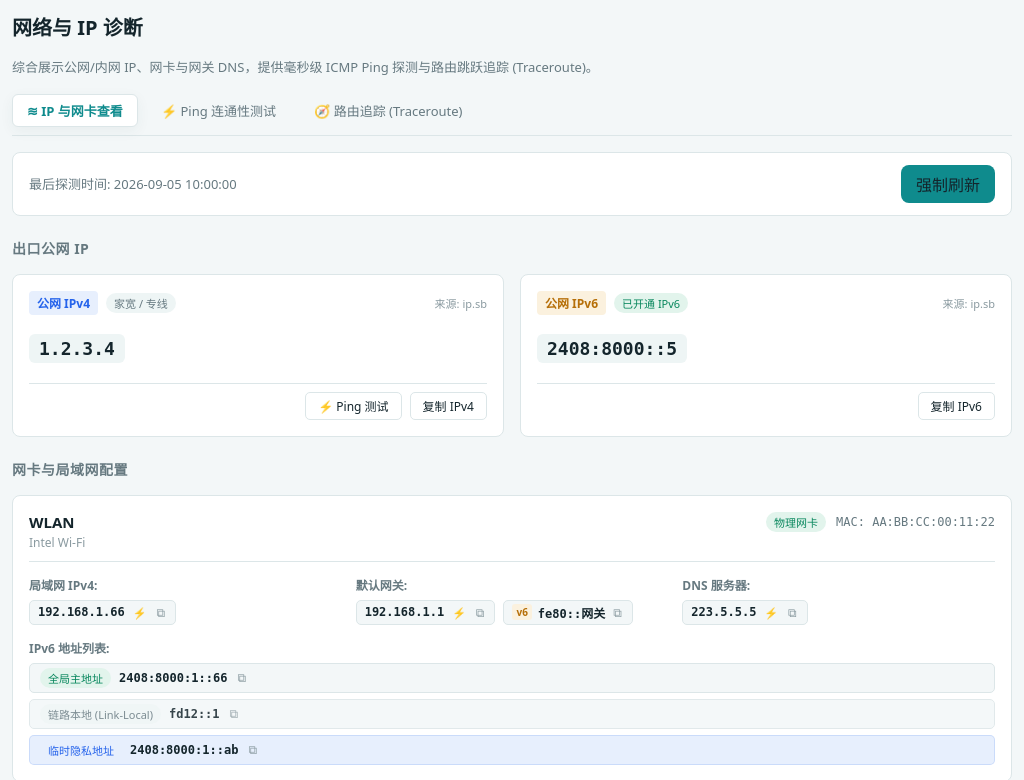
Test: PublicIpView Traceroute Tab › 追踪失败进错误框且不落结果卡
Click the button with class "tab-item" showing "🧭 路由追踪 (Traceroute)" at point(388, 110), box top-left (299, 94), bottom-right (478, 127)
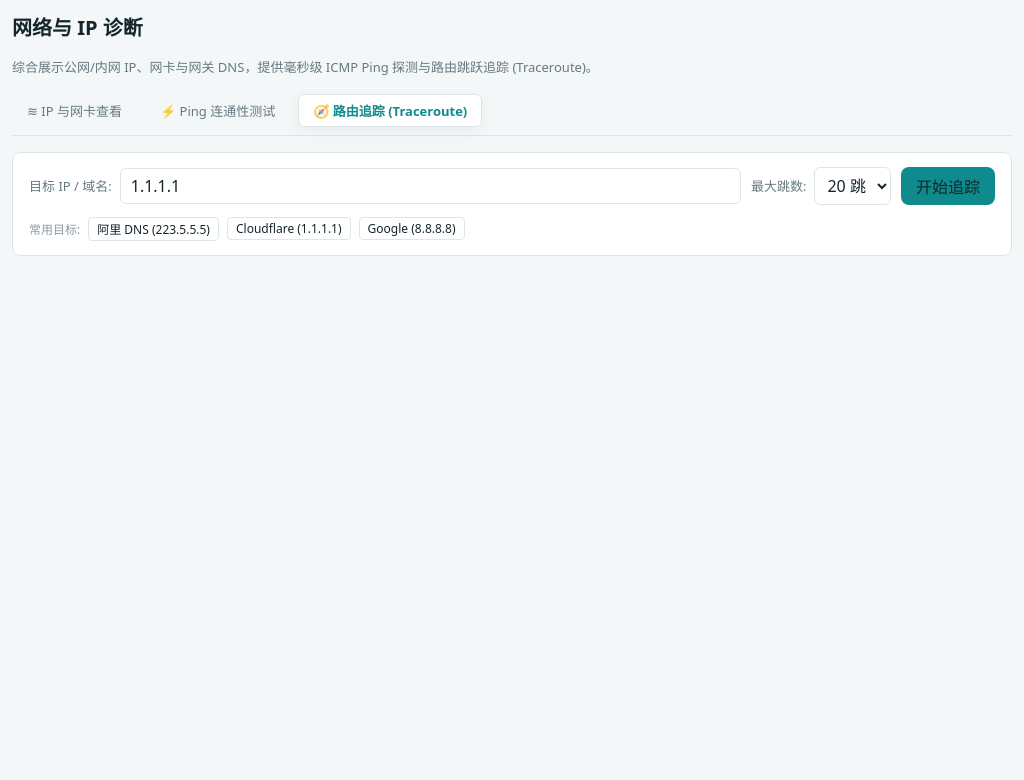
Click the button "开始追踪" at point(948, 186), box top-left (901, 167), bottom-right (995, 205)
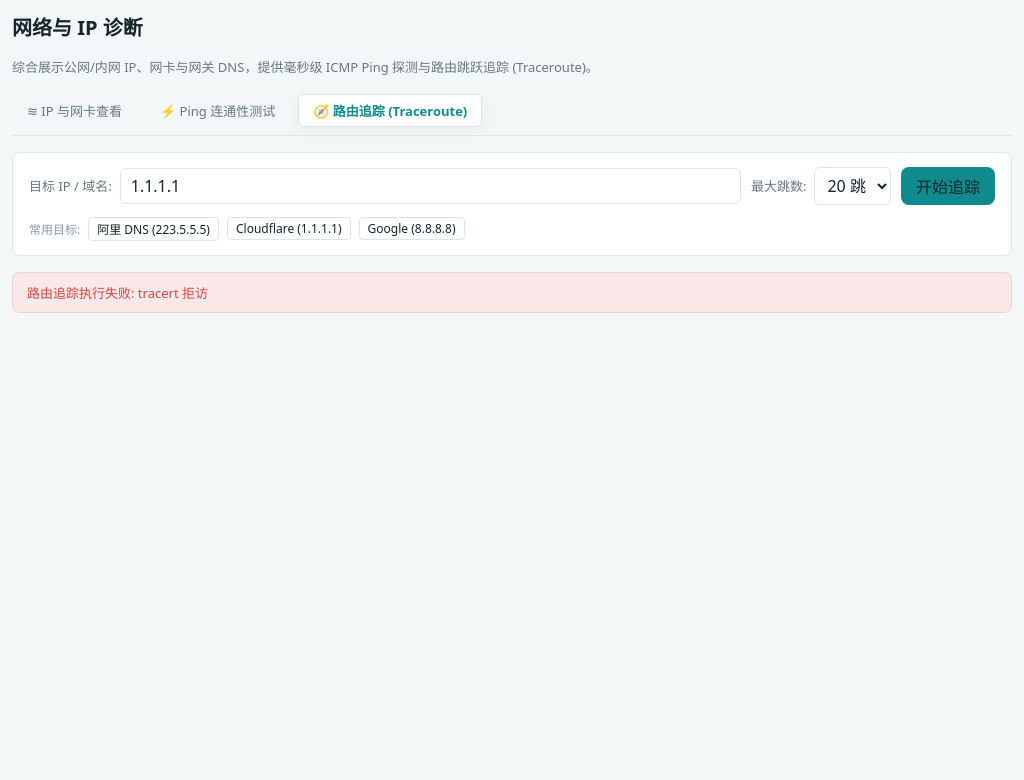
Result: the text with class "error-box" reads "路由追踪执行失败: tracert 拒访" at top-left (27, 284), bottom-right (208, 302)
